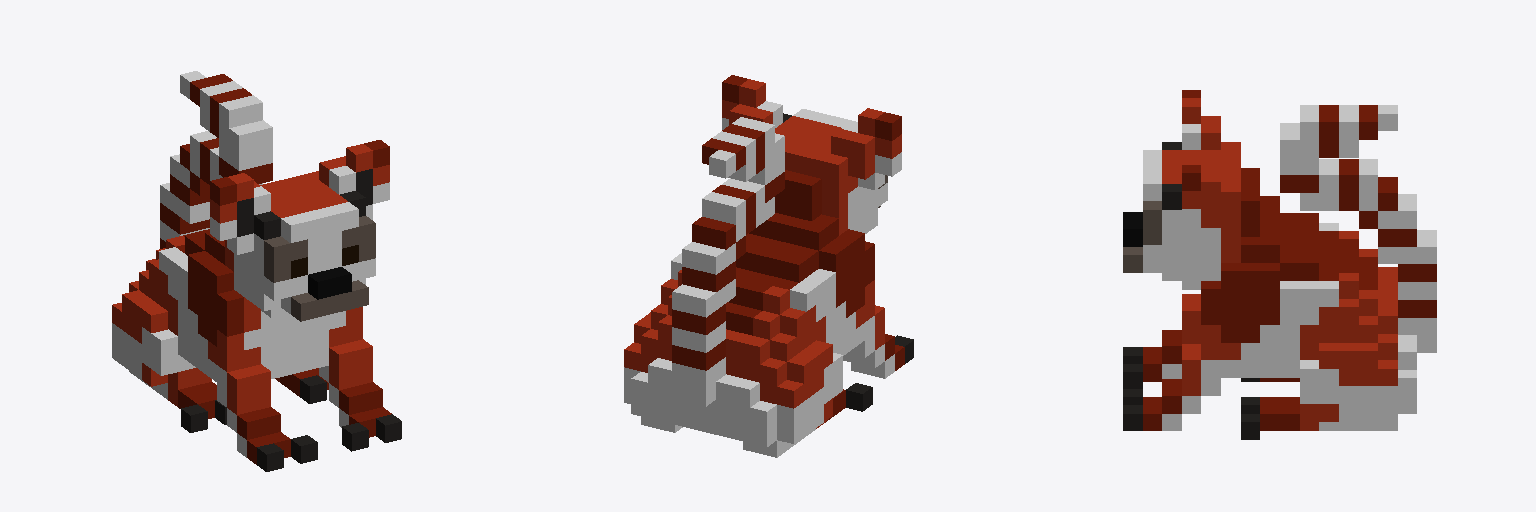
3 views of the same model, side by side, from view 1: azimuth 30°, elevation 25°; view 2: azimuth 150°, elevation 25°; view 3: azimuth 270°, elevation 25° (orthographic).
Visible parts, largest first — view 1: object 1; view 2: object 1; view 3: object 1.
Part boxes in pixels (left/top/right/bottom): object 1: left=112, top=71, right=401, bottom=471; object 1: left=624, top=75, right=913, bottom=457; object 1: left=1123, top=90, right=1436, bottom=439.
Size of the model in its own units: 1 by 1.6 by 1.6.
Materials: 1 (1 with a texture image).